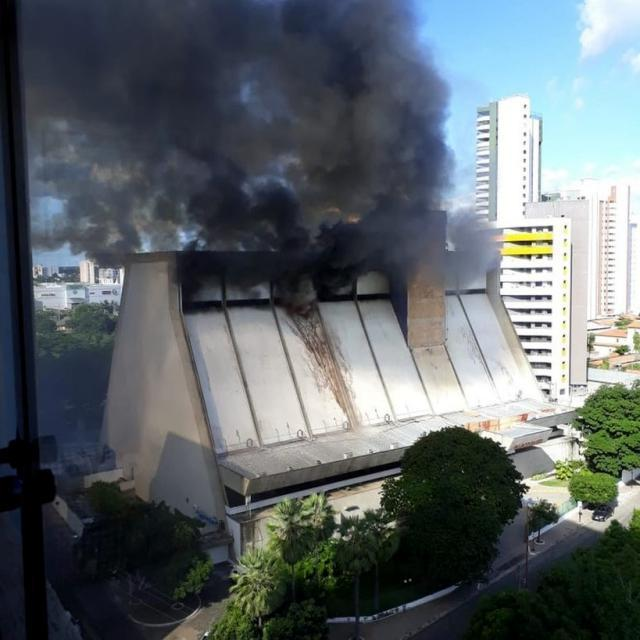Smoke: (0, 0, 491, 331)
